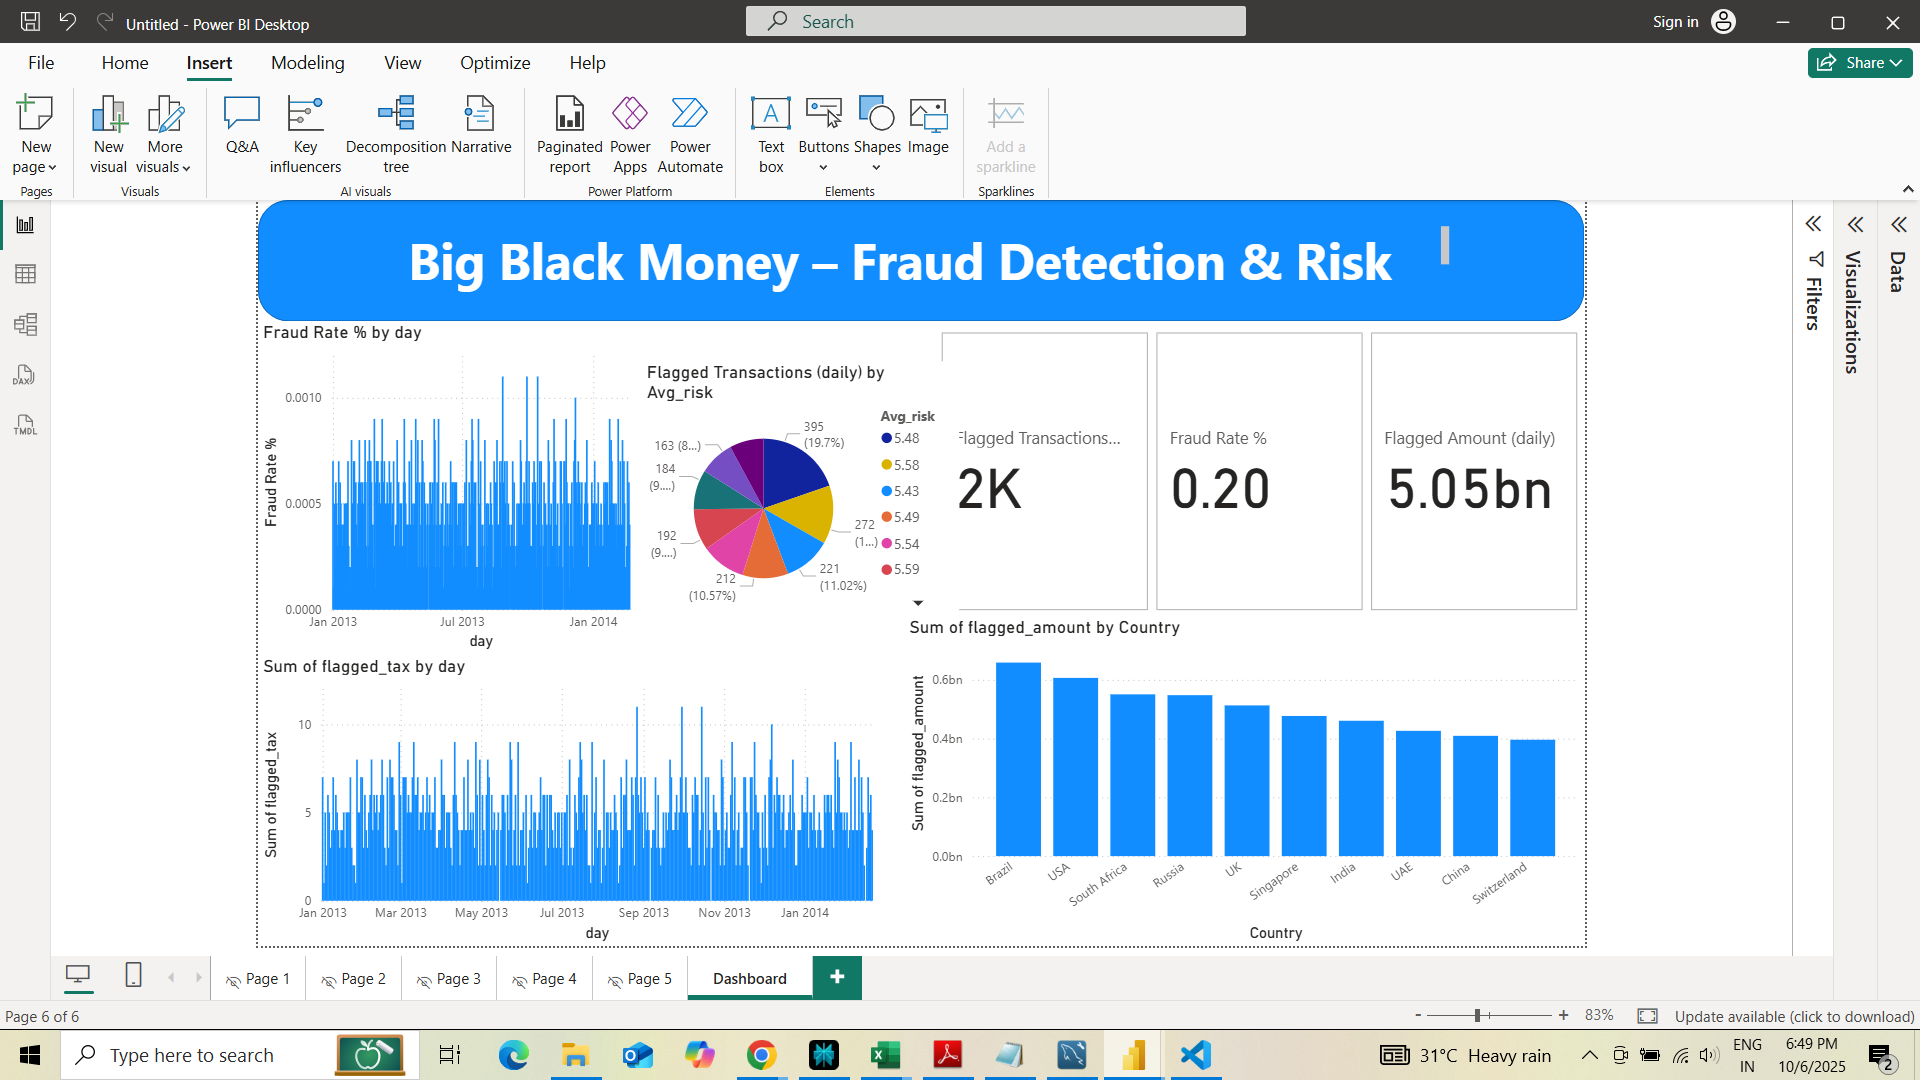

The page's visual inventory and layout, read from the dashboard file:
{"tool":"powerbi","page":{"name":"Dashboard","canvas":[1280,720],"ordinal":5},"visuals":[{"type":"cardVisual","fields":{"Data":["Daily fraud.Flagged Transactions (daily)","Daily fraud.Fraud Rate %","Daily fraud.Flagged Amount (daily)"]},"box":[655.1,123.1,624.9,278.7],"z":0},{"type":"lineClusteredColumnComboChart","fields":{"Category":["Daily fraud.day"],"Y":["Sum(Daily fraud.flagged_tax)"]},"box":[0,439.1,623.7,281.1],"z":1},{"type":"columnChart","fields":{"Category":["Avg & High Risk Transaction.Country"],"Y":["Sum(Daily fraud.flagged_amount)"]},"box":[623.7,401.7,656.3,318.5],"z":2},{"type":"clusteredColumnChart","fields":{"Y":["Daily fraud.Fraud Rate %"],"Category":["Daily fraud.day"]},"box":[0,117,389.7,322.1],"z":3},{"type":"pieChart","fields":{"Category":["Avg & High Risk Transaction.Avg_risk"],"Y":["Daily fraud.Flagged Transactions (daily)"]},"box":[370.4,155.6,306.4,246.1],"z":4},{"type":"shape","box":[0,0,1280,117],"z":5},{"type":"textbox","box":[92.9,20.5,1061.7,78.4],"z":6}]}

Visuals, with their boxes on the page's 1280x720 design canvas (x1, y1, x2, y2). These are canvas units, not pixel positions in the 1920x1080 screenshot, which may show the page scaled, cropped or inside an application window:
cardVisual - Daily fraud.Flagged Transactions (daily) x Daily fraud.Fraud Rate %: [655,123,1280,402]
lineClusteredColumnComboChart - Daily fraud.day x Sum(Daily fraud.flagged_tax): [0,439,624,720]
columnChart - Avg & High Risk Transaction.Country x Sum(Daily fraud.flagged_amount): [624,402,1280,720]
clusteredColumnChart - Daily fraud.Fraud Rate % x Daily fraud.day: [0,117,390,439]
pieChart - Avg & High Risk Transaction.Avg_risk x Daily fraud.Flagged Transactions (daily): [370,156,677,402]
shape: [0,0,1280,117]
textbox: [93,20,1155,99]
